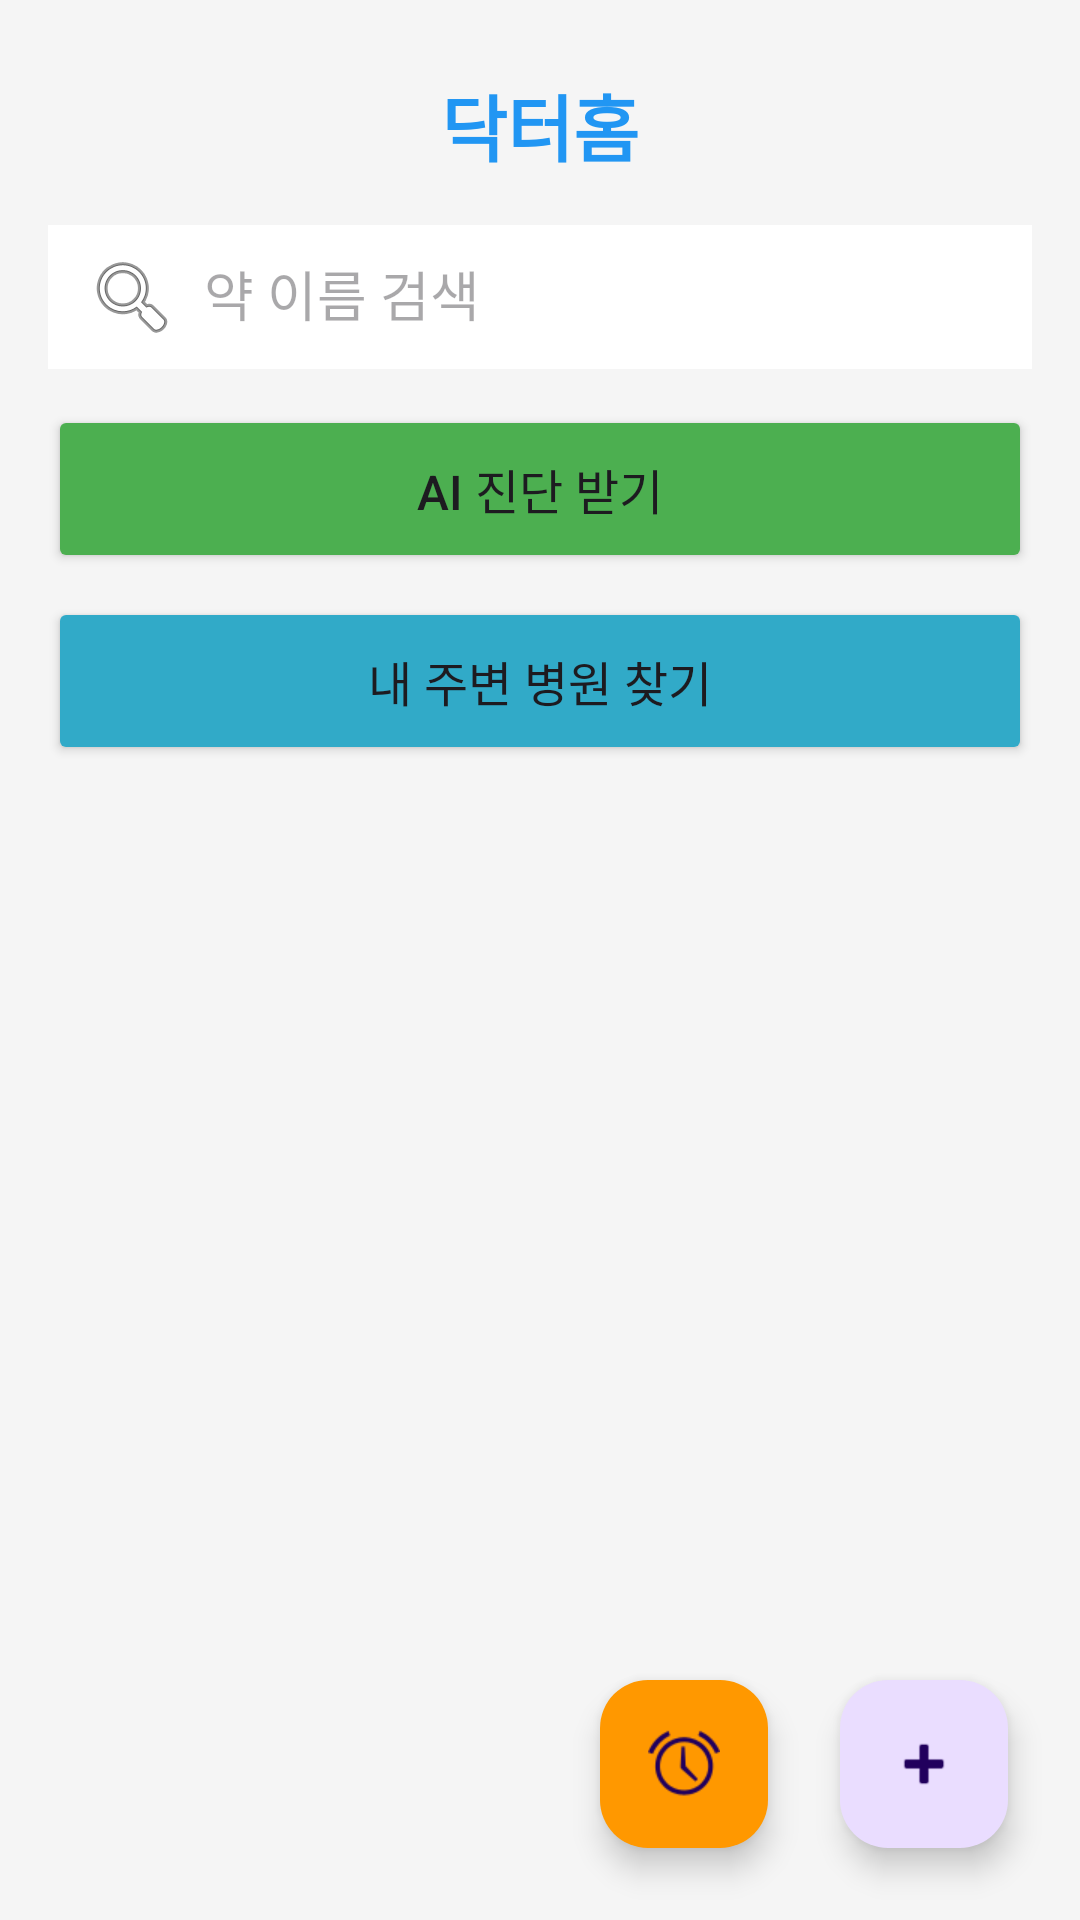

Locate icon controls on the screen. Image size 1080px×1920px, boxes as (x1=x1, y1=y1, x2=x2, y2=y2).
알림 설정: (x1=600, y1=1680, x2=768, y2=1848)
약 추가: (x1=840, y1=1680, x2=1008, y2=1848)
